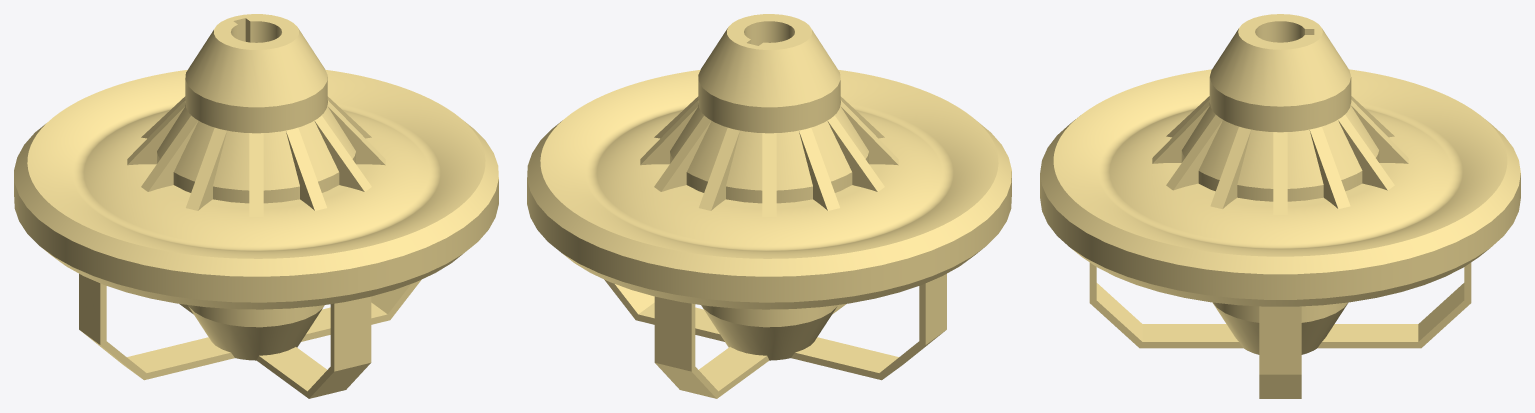
The model's file is disc.glb.
3 views of the same model, side by side, from view 1: azimuth 30°, elevation 25°; view 2: azimuth 150°, elevation 25°; view 3: azimuth 270°, elevation 25° (orthographic).
Visible parts, largest first — view 1: disc; view 2: disc; view 3: disc.
Boxes of the visible parts, bbox=[...] form: disc: bbox=[14, 14, 498, 398]; disc: bbox=[527, 14, 1011, 398]; disc: bbox=[1040, 14, 1520, 398].
Size of the model in its own units: 0.0339 by 0.0242 by 0.034.
